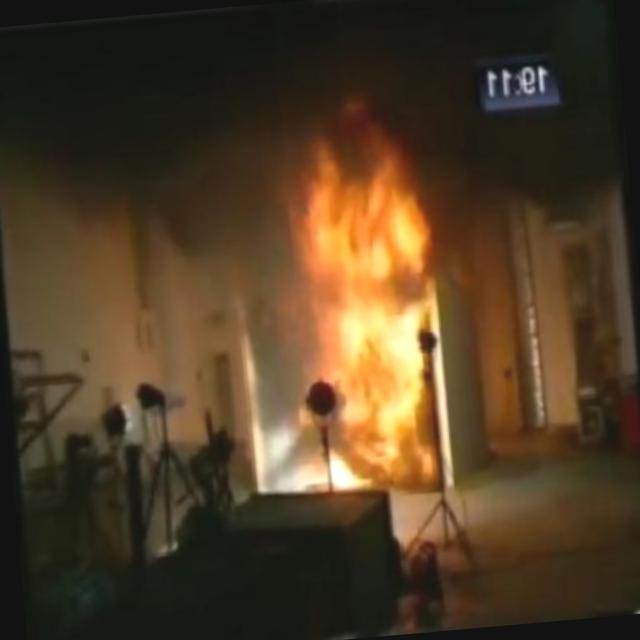fire: (261, 130, 454, 482)
smoke: (0, 0, 627, 220)
